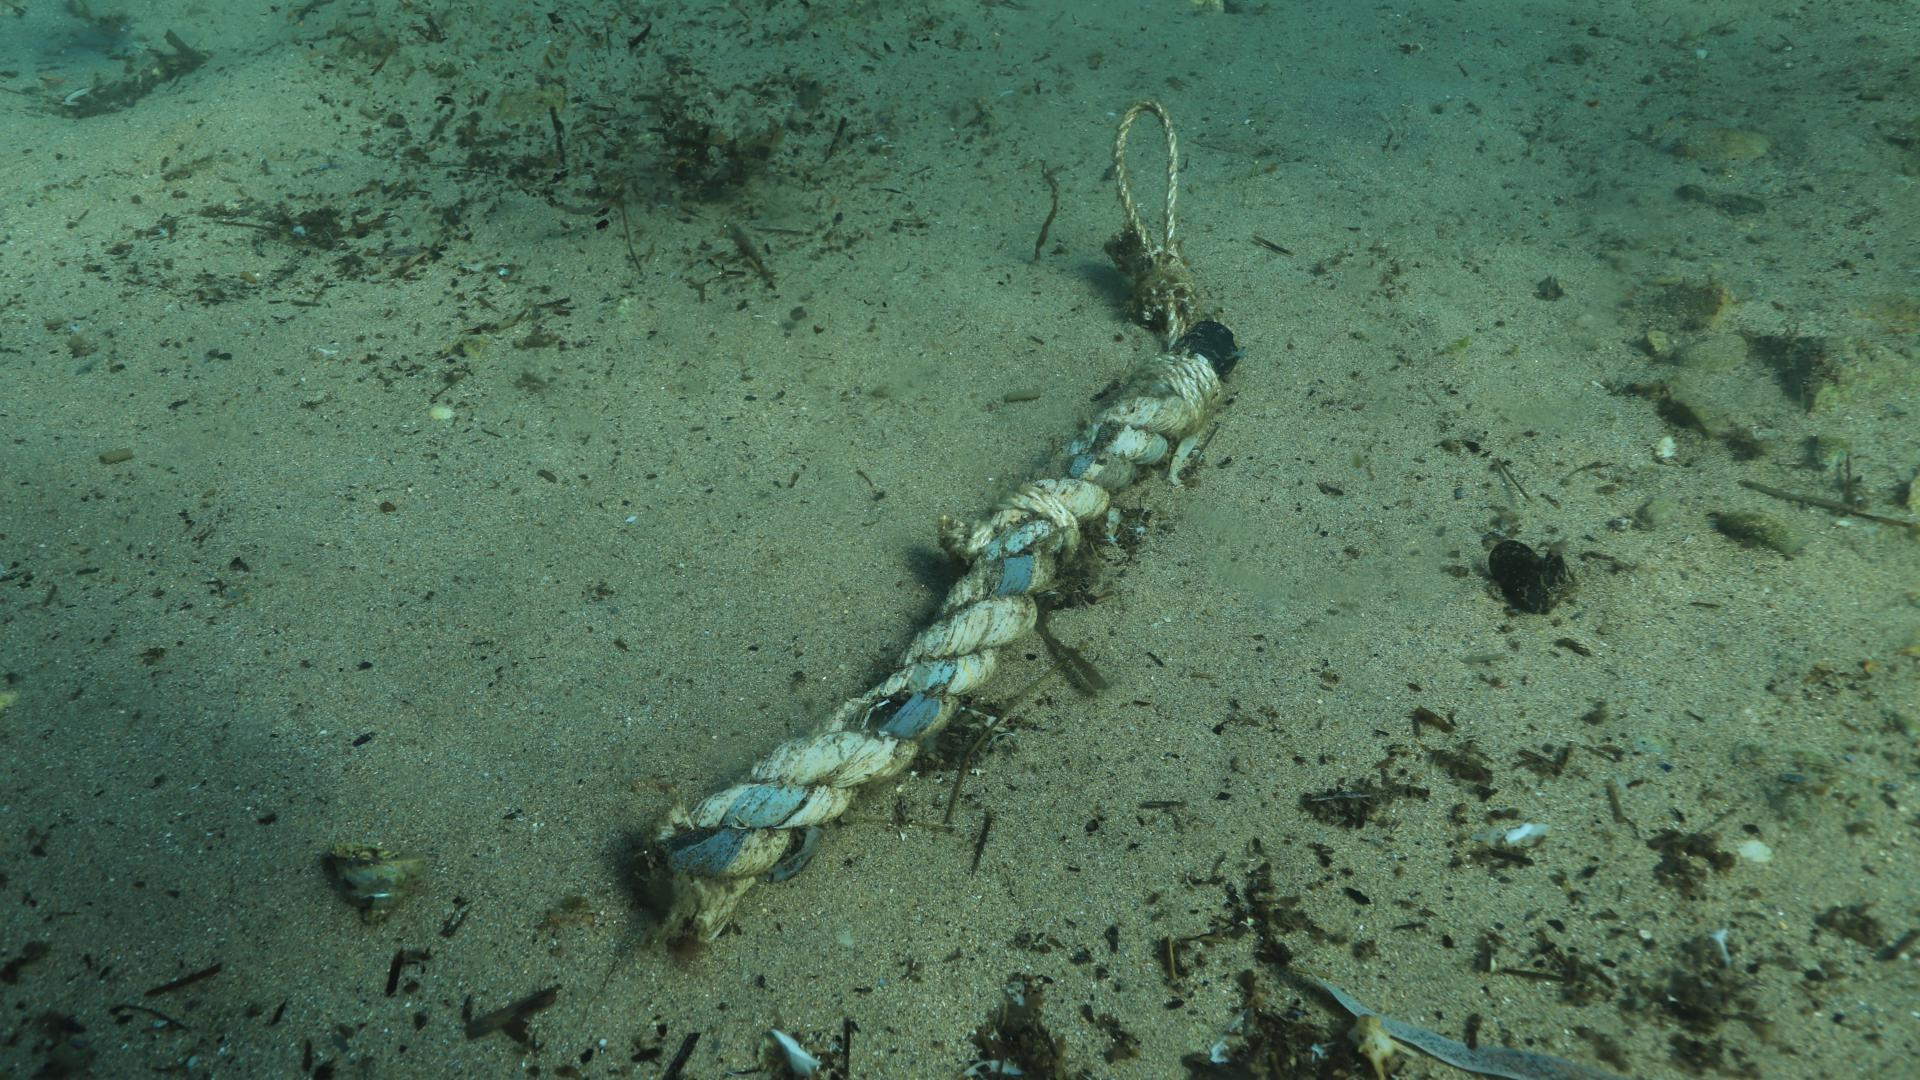bundle of ropes: (657, 316, 1238, 938), (1106, 96, 1203, 345)
